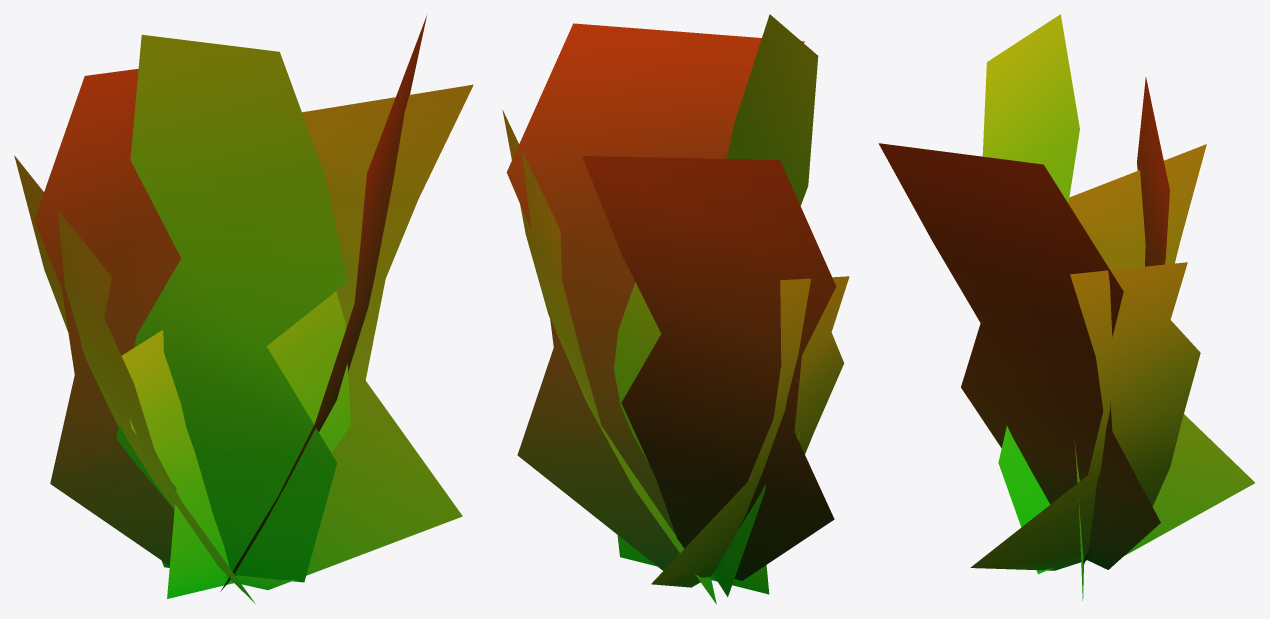
File: Var8Hi3.fbx
3 views of the same model, side by side, from view 1: azimuth 30°, elevation 25°; view 2: azimuth 150°, elevation 25°; view 3: azimuth 270°, elevation 25° (orthographic). The views are drawn at different scales.
Parts seen in each view (by area): view 1: bend1; view 2: bend1; view 3: bend1.
Boxes of the visible parts, x1=… form: bend1: x1=14, y1=15, x2=473, y2=603; bend1: x1=502, y1=14, x2=849, y2=604; bend1: x1=878, y1=14, x2=1254, y2=600.
Bounding box in the file's own units: 1.27 × 1.76 × 1.19.
